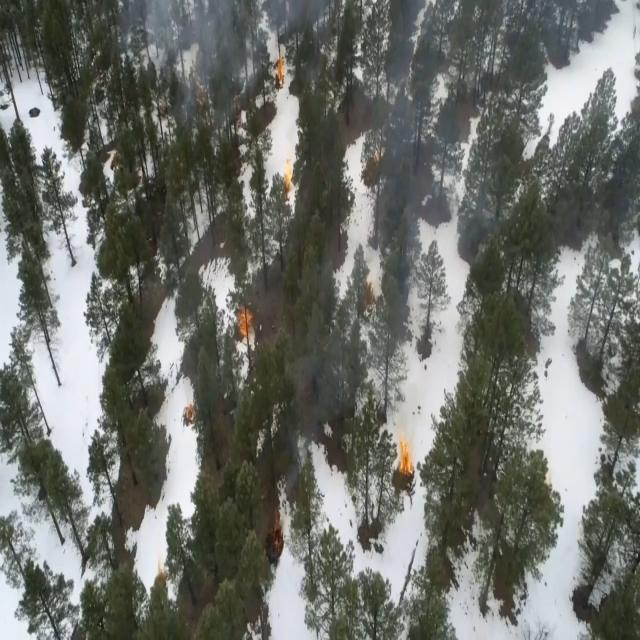Fire: (386, 422, 424, 492), (230, 290, 261, 341), (274, 54, 294, 88), (180, 397, 201, 425), (282, 157, 296, 196)
